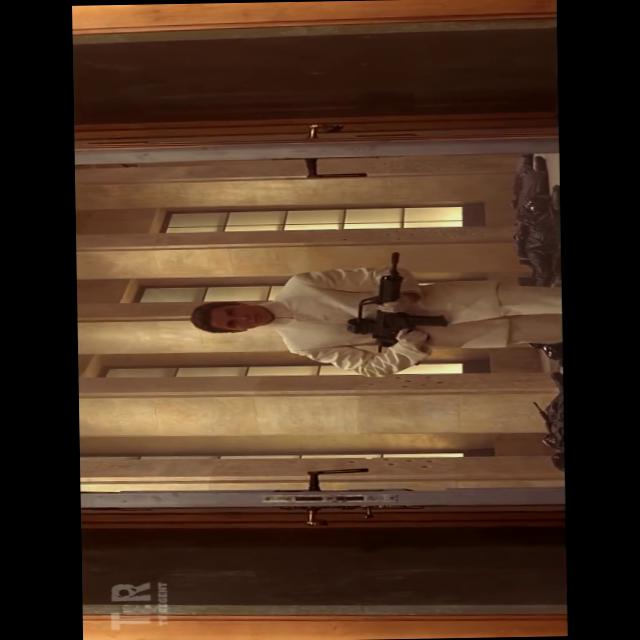long weapon: (324, 222, 459, 388)
